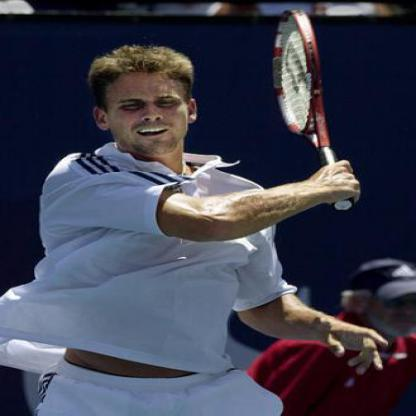face: (104, 50, 191, 157)
